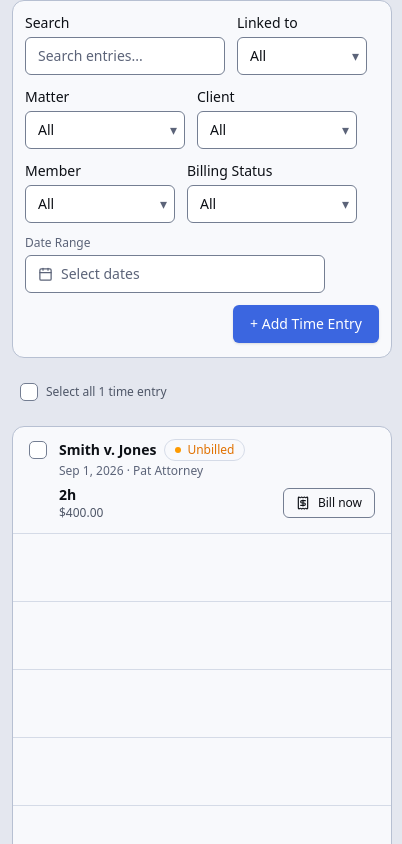
billing actions need billing.manageInvoices › offers both to a viewer who holds billing.manageInvoices as well
Expected: the button "Bill now" is shown, [283,488,375,518]
Click the checkbox named "Select row" at (38, 450), box [29,441,47,459]
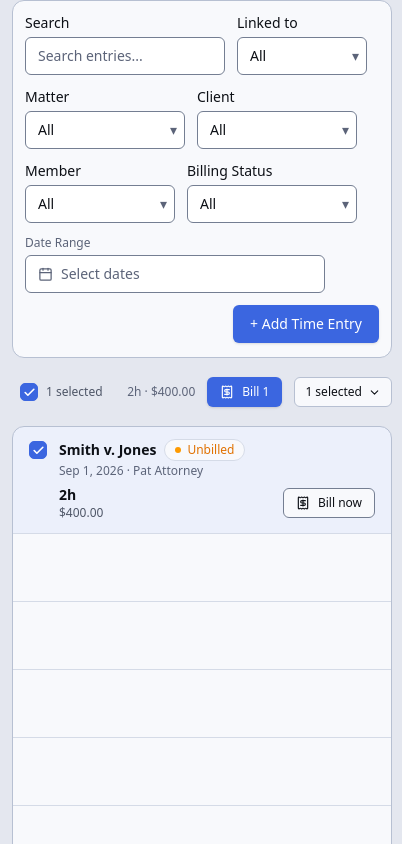
Result: the button "Bill 1" is shown at [207,377,282,407]
